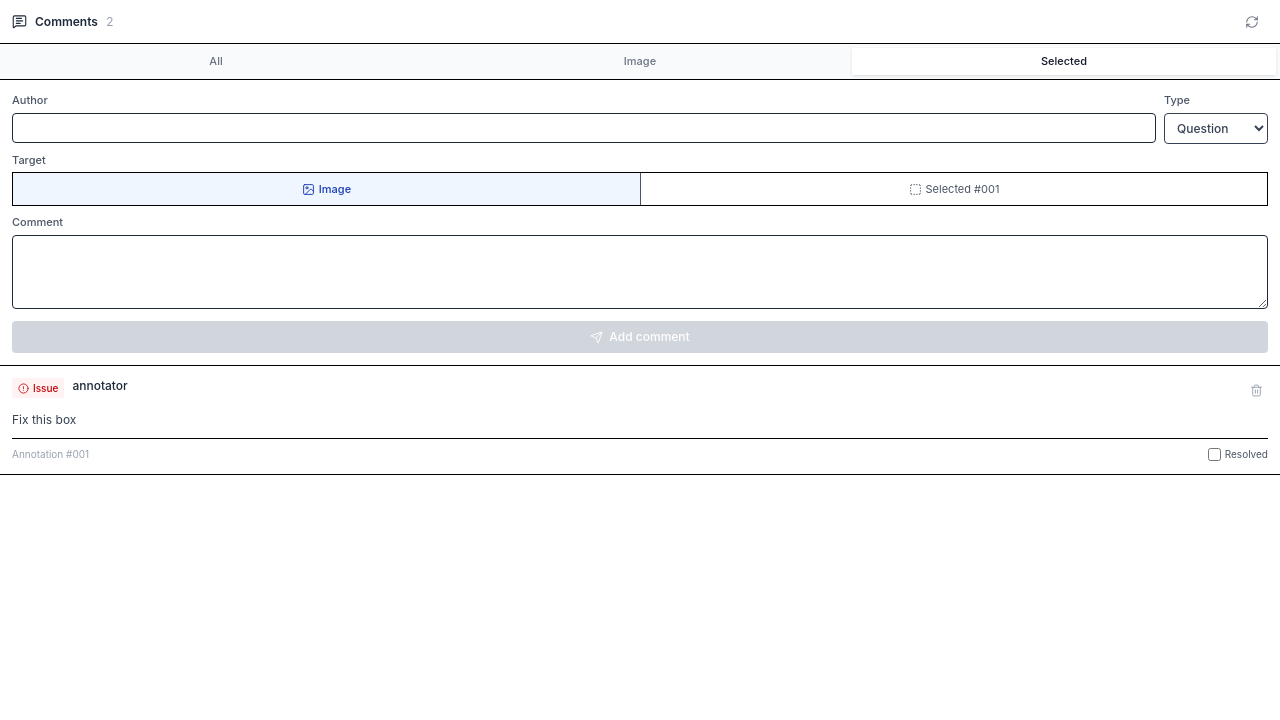
Scenario: CommentPanel › filters by the selected Annotation and creates a linked Comment
Expected: the text "Fix this box" is shown, top-left (12, 412), bottom-right (76, 427)
Expected: the text "Check the whole image" is not shown
Click the button "All": click(216, 62) top-left (4, 48), bottom-right (428, 75)
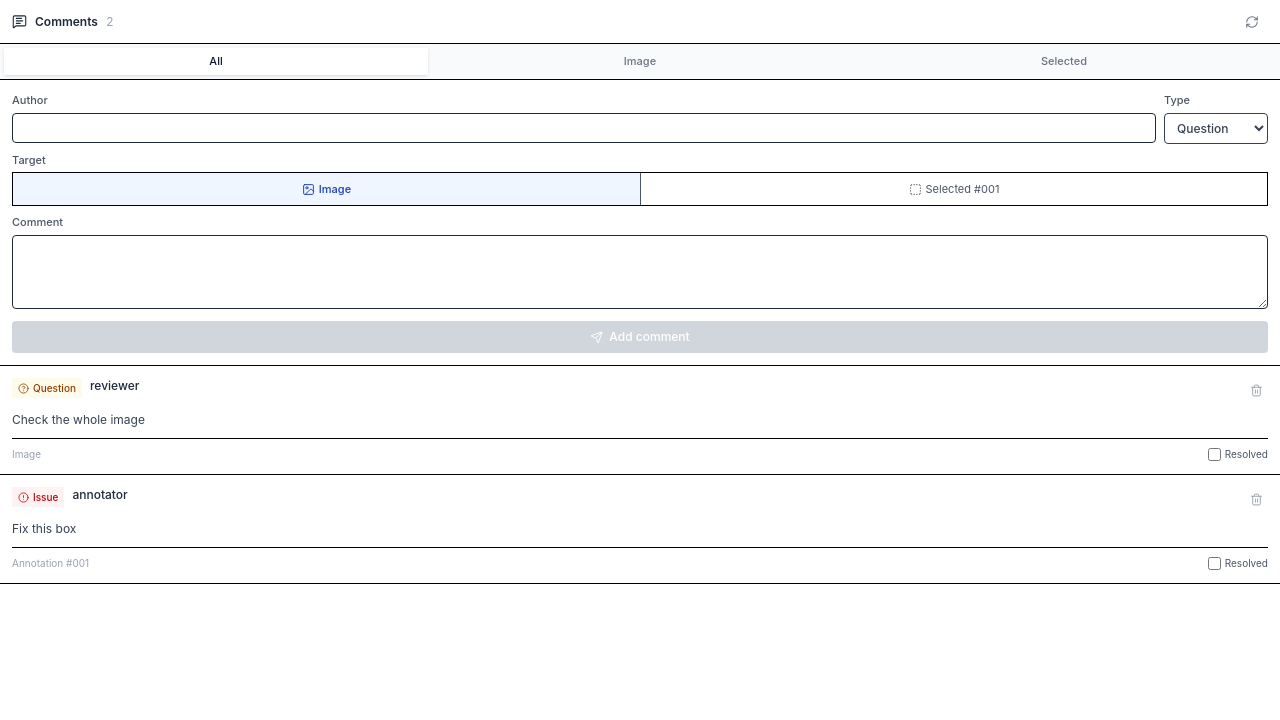
Result: the text "Check the whole image" is shown at top-left (12, 412), bottom-right (145, 427)
Click the button "Selected": click(1064, 62) top-left (852, 48), bottom-right (1276, 75)
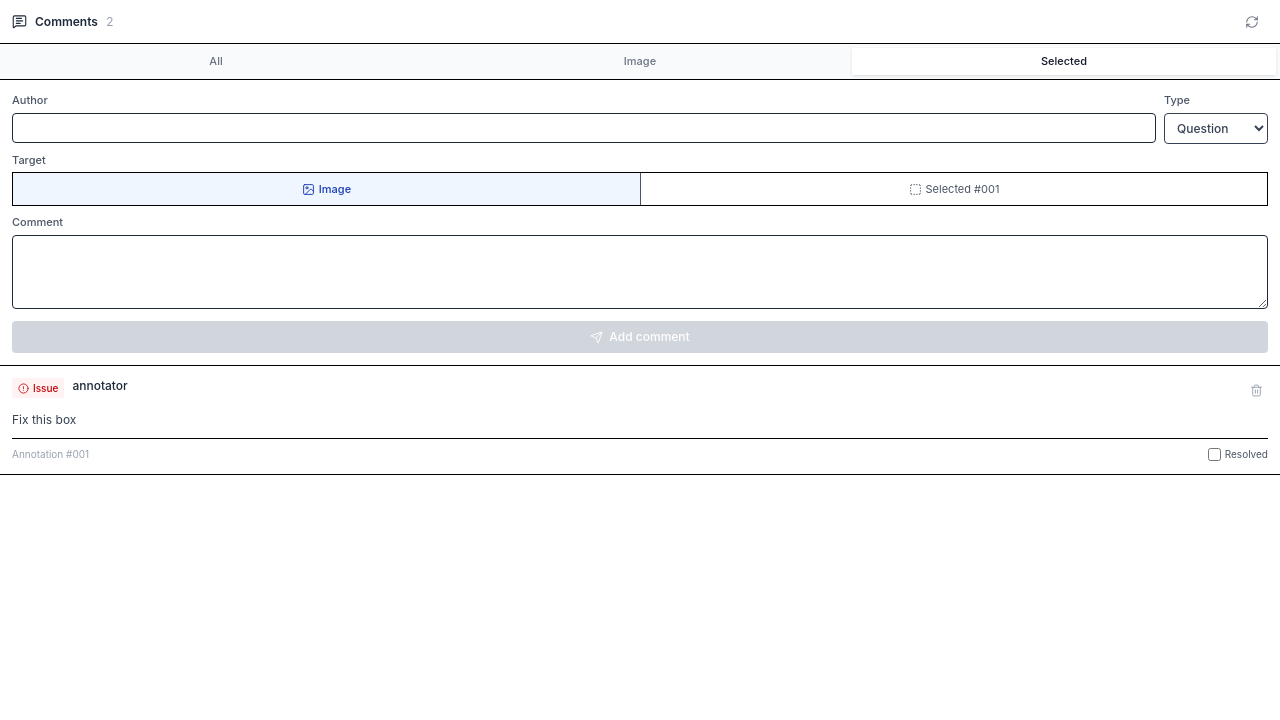
Expected: the text "Fix this box" is shown, top-left (12, 412), bottom-right (76, 427)
Result: the text "Check the whole image" is gone
In the field labelled "Author": (584, 128) top-left (12, 112), bottom-right (1156, 142), type "qa-user"
Select "Issue" in the dropdown named "Comment type": (1216, 128) top-left (1164, 112), bottom-right (1268, 144)
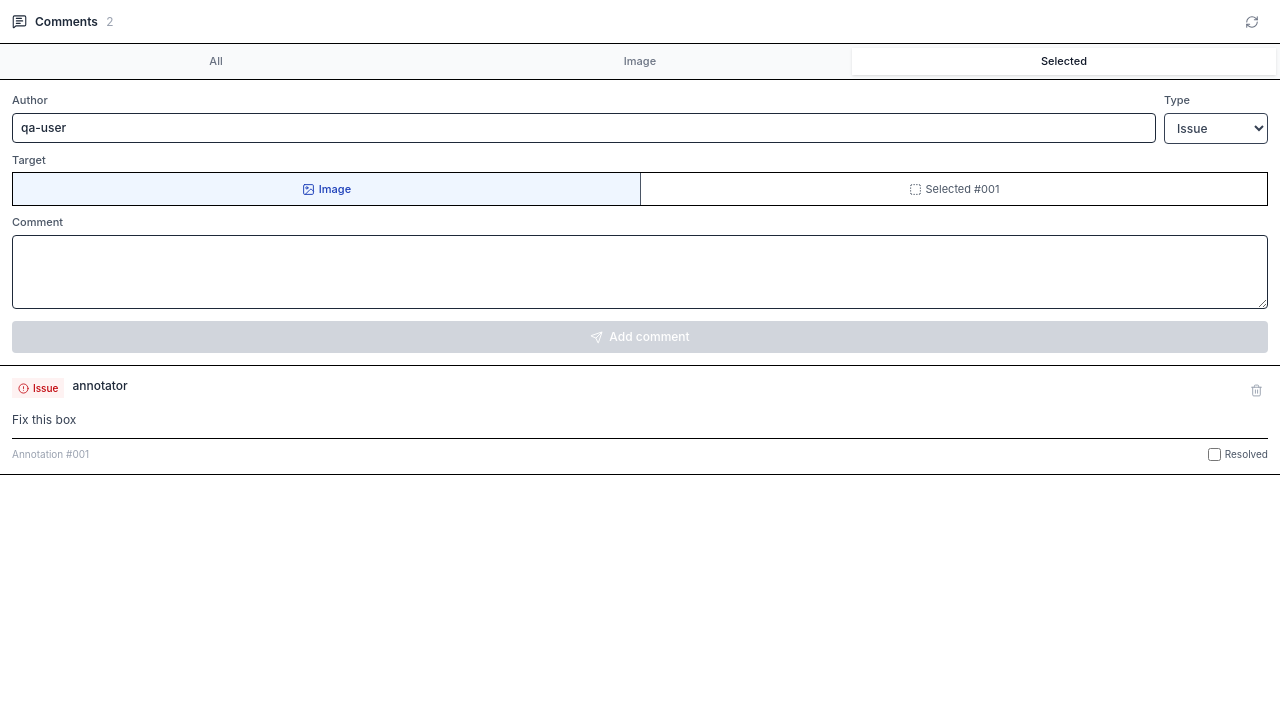
Click the radio button labelled "Selected #001": click(954, 189) top-left (640, 173), bottom-right (1267, 205)
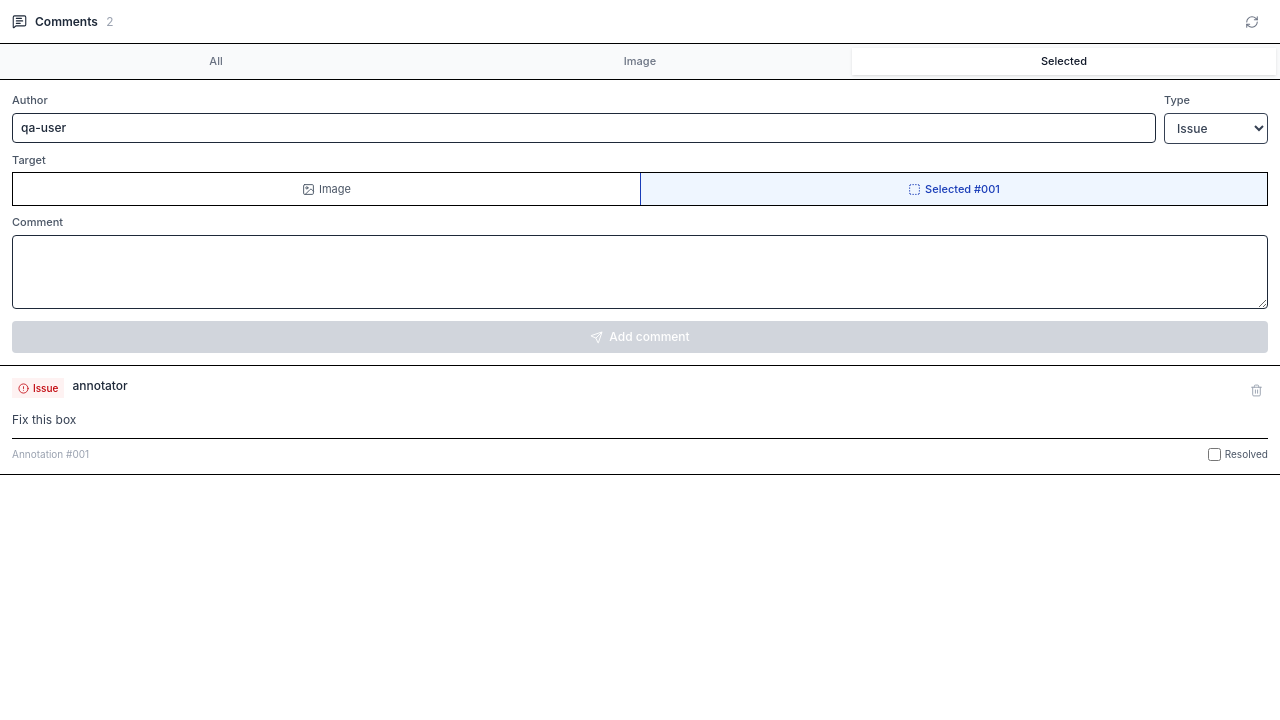
In the text box named "Comment body": (640, 272) top-left (12, 234), bottom-right (1268, 308), type "Needs a tighter box"
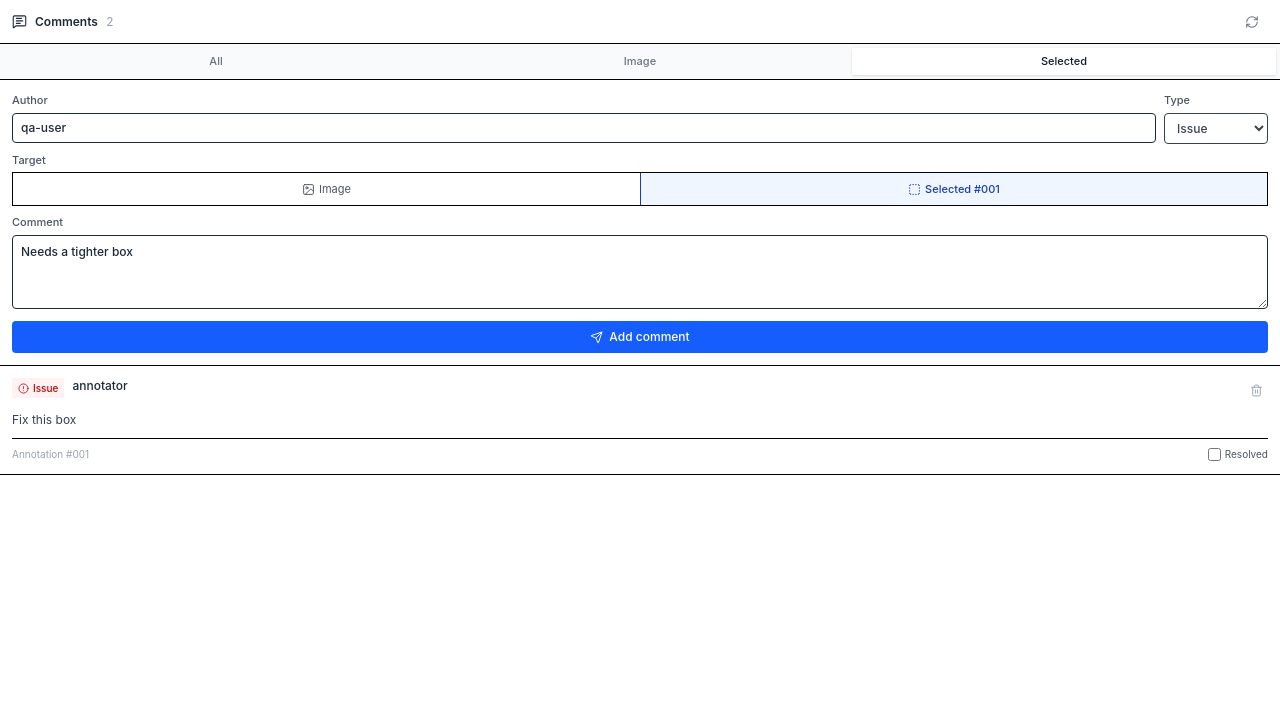
Click the button "Add comment": click(640, 337) top-left (12, 321), bottom-right (1268, 353)
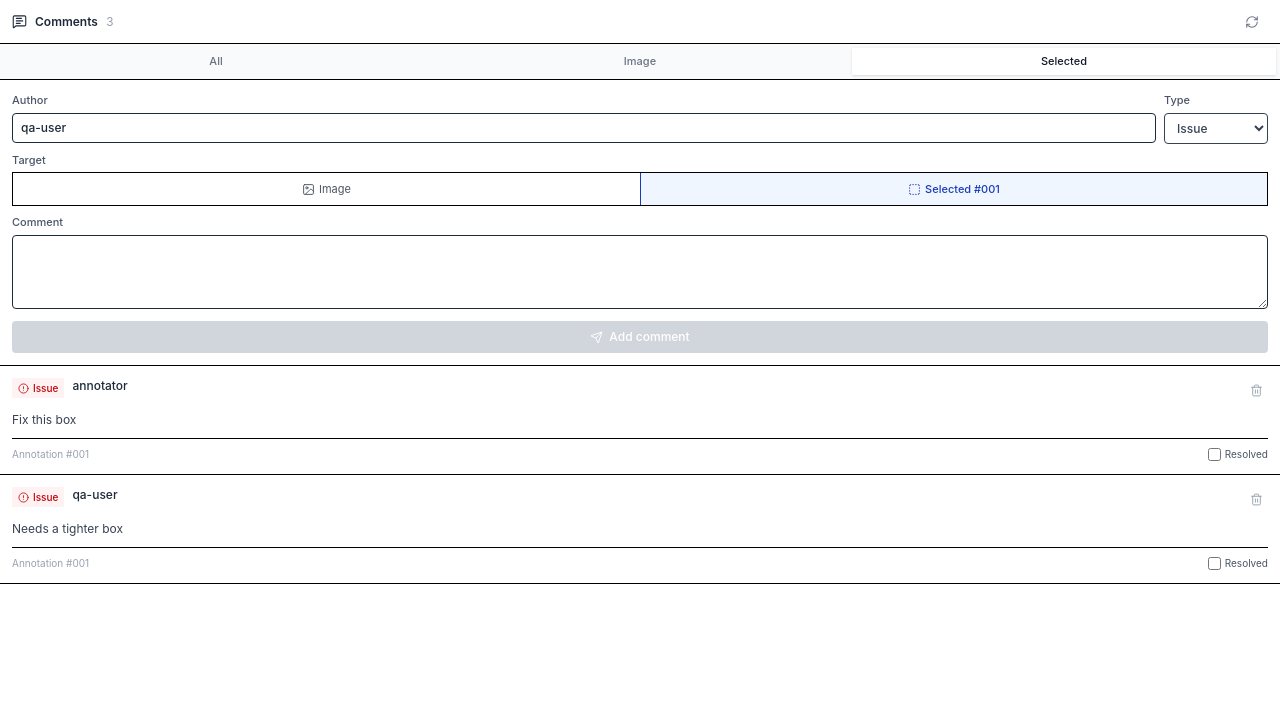
Result: the text "Needs a tighter box" is shown at top-left (12, 521), bottom-right (123, 536)
